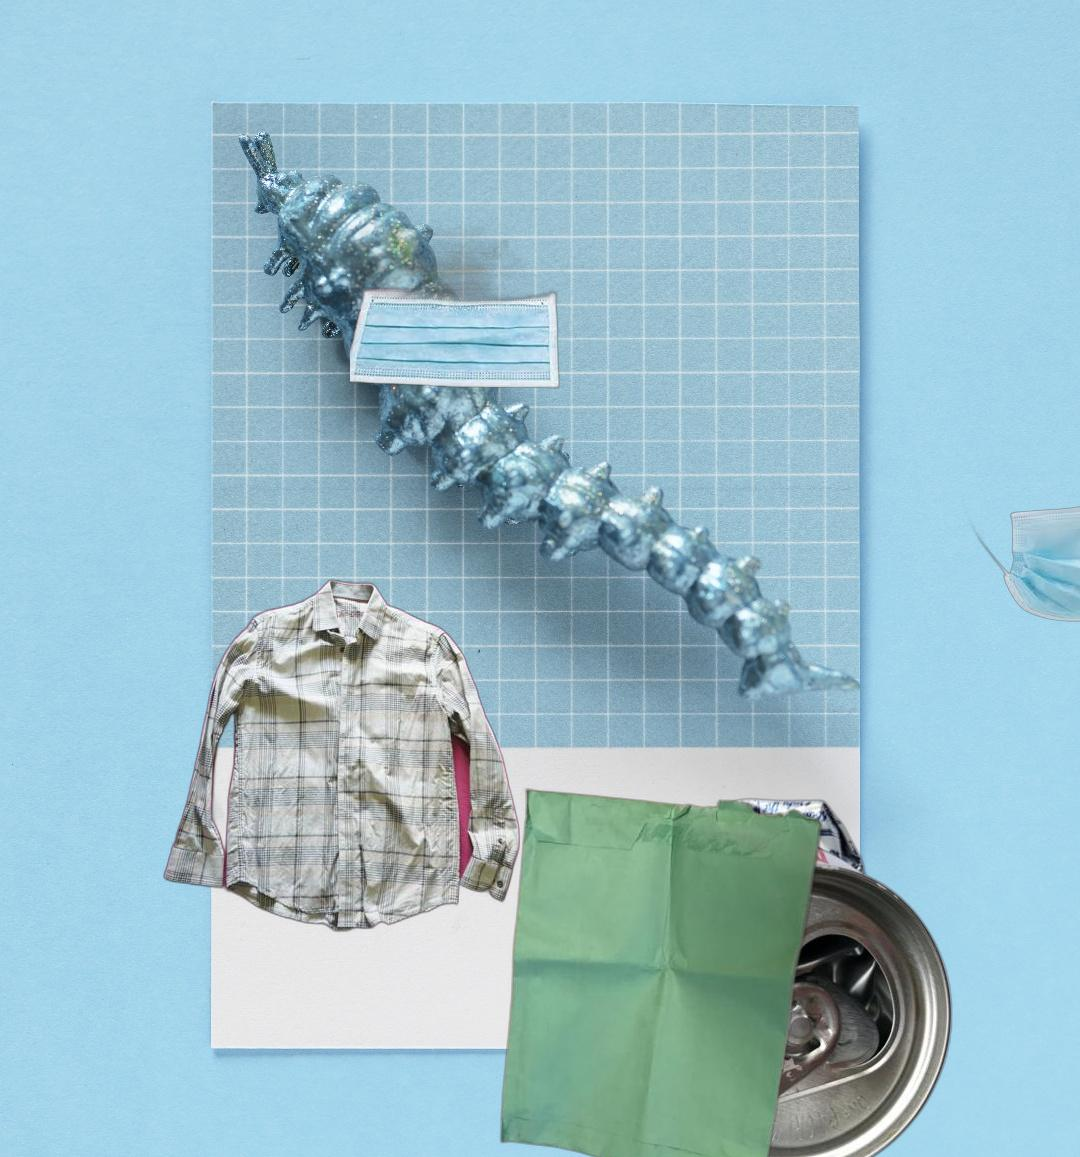clothes: (161, 575, 523, 935)
metal-cans: (582, 795, 957, 1157)
paper: (497, 788, 827, 1157)
trash: (350, 188, 564, 391), (960, 463, 1080, 624)
